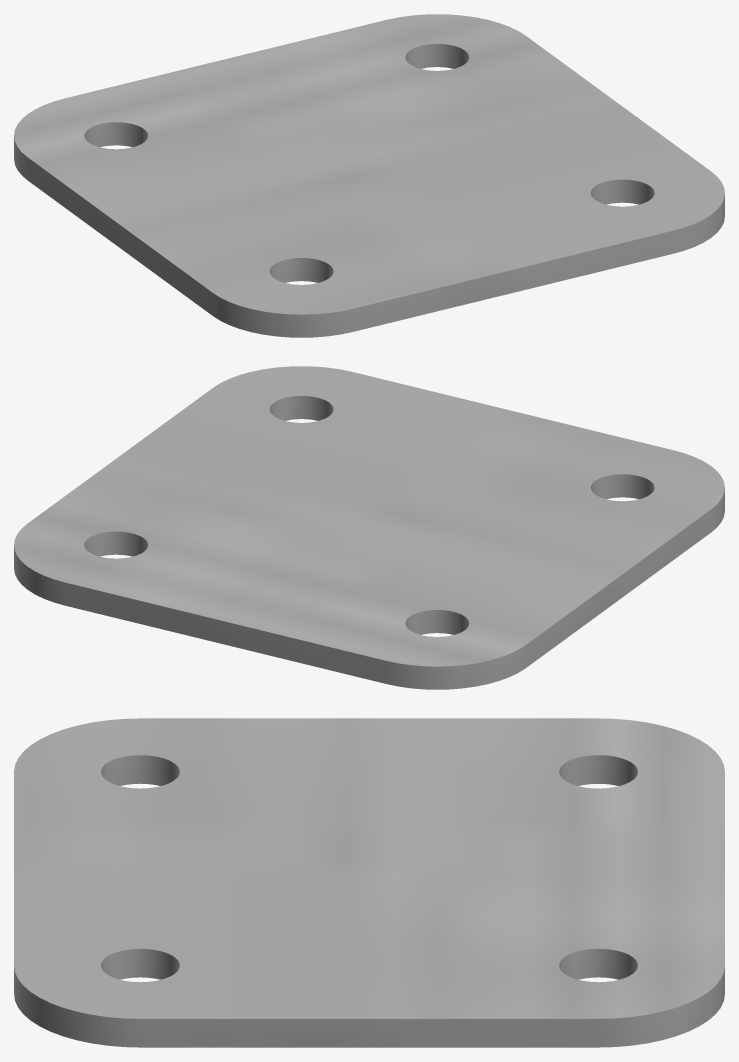
The model's file is Stuetzrad_Aufhaengung.dae.
3 views of the same model, one above another, from view 1: azimuth 30°, elevation 25°; view 2: azimuth 150°, elevation 25°; view 3: azimuth 270°, elevation 25° (orthographic). The views are drawn at different scales.
Parts seen in each view (by area): view 1: SketchUp (×5); view 2: SketchUp (×5); view 3: SketchUp (×5).
Boxes of the visible parts, x1,y1,x2,y2 form: SketchUp (×5): (14,14,724,337); SketchUp (×5): (14,366,724,689); SketchUp (×5): (14,718,724,1047).
Bounding box in the file's own units: 1.77 × 1.77 × 0.2756.
1 material, 1 textured.
